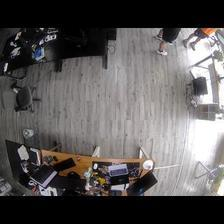normal: (150, 27, 181, 57), (184, 28, 216, 51)
